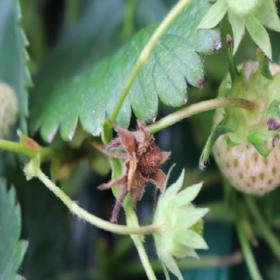Gray Mold: (87, 119, 171, 224)
